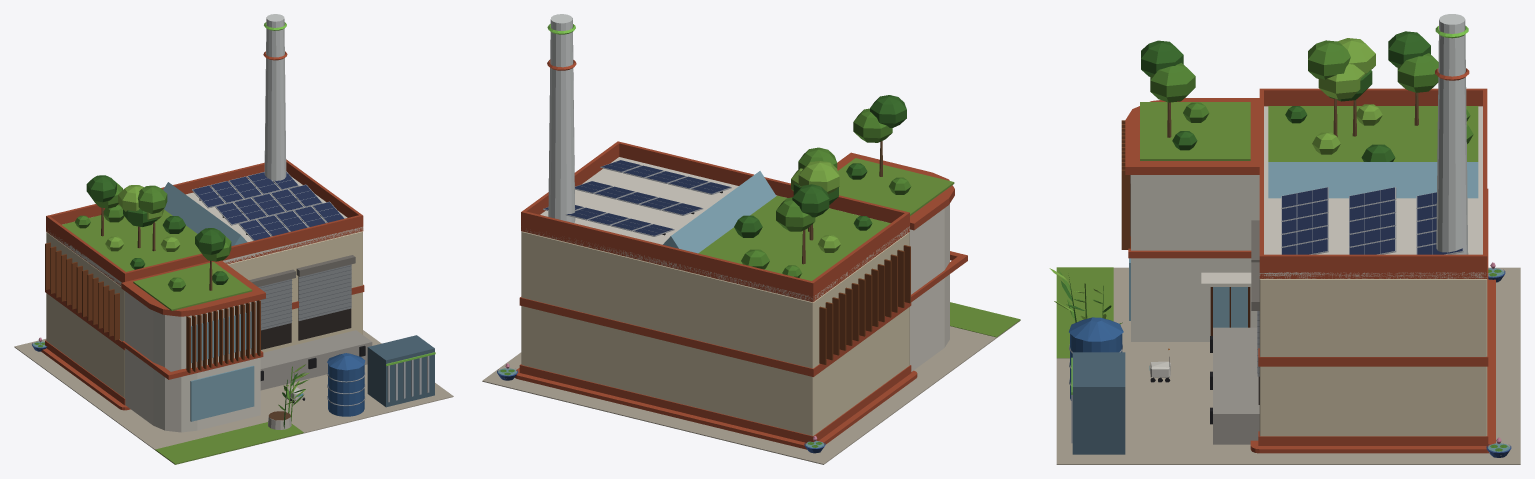
The model's file is factory_3.glb.
3 renders of one model, left to right at view 1: azimuth 30°, elevation 25°; view 2: azimuth 150°, elevation 25°; view 3: azimuth 270°, elevation 25°, orthographic. The views are drawn at different scales.
Visible parts, largest first — view 1: body, windows; view 2: body; view 3: body.
Boxes of the visible parts, x1=… form: body: x1=14, y1=14, x2=453, y2=464; windows: x1=261, y1=22, x2=435, y2=396; body: x1=482, y1=14, x2=1020, y2=464; body: x1=1049, y1=14, x2=1520, y2=464.
Bounding box in the file's own units: 15.9 × 15.75 × 16.16.
